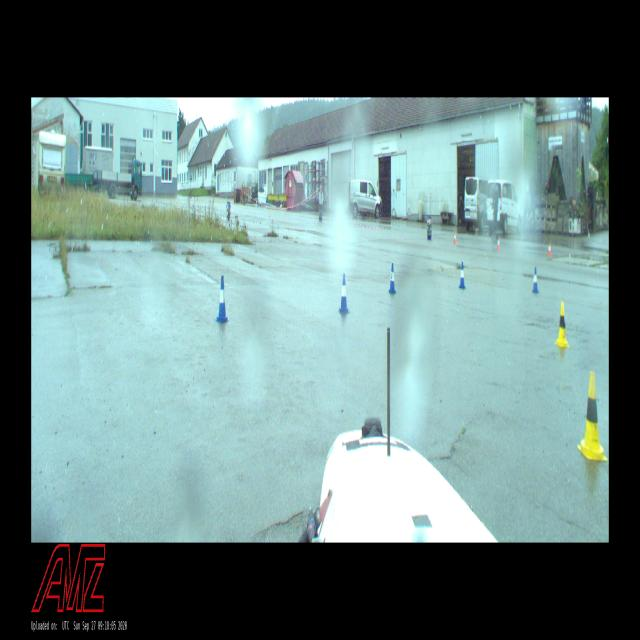blue_cone: (216, 275, 230, 323), (338, 272, 350, 314), (388, 263, 397, 295), (458, 262, 467, 290), (532, 266, 539, 294)
orange_cone: (453, 231, 457, 244), (548, 242, 551, 257), (497, 237, 500, 250)
yellow_cone: (577, 371, 608, 460), (554, 302, 570, 348)
